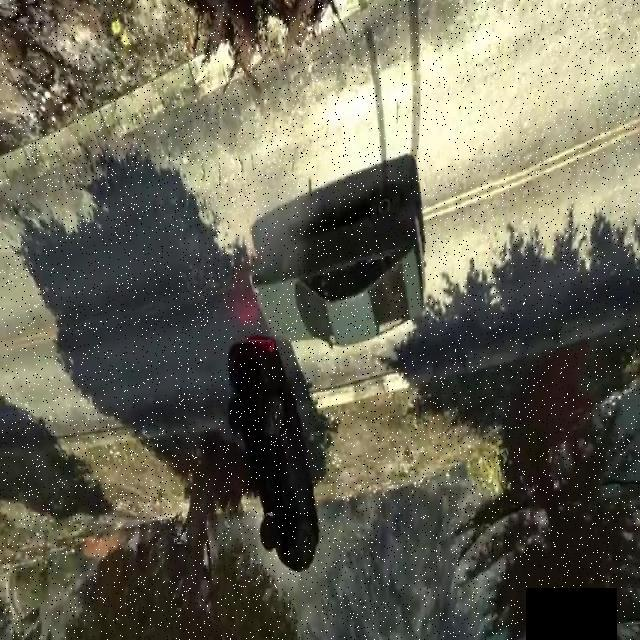severe: (222, 333, 320, 580)
